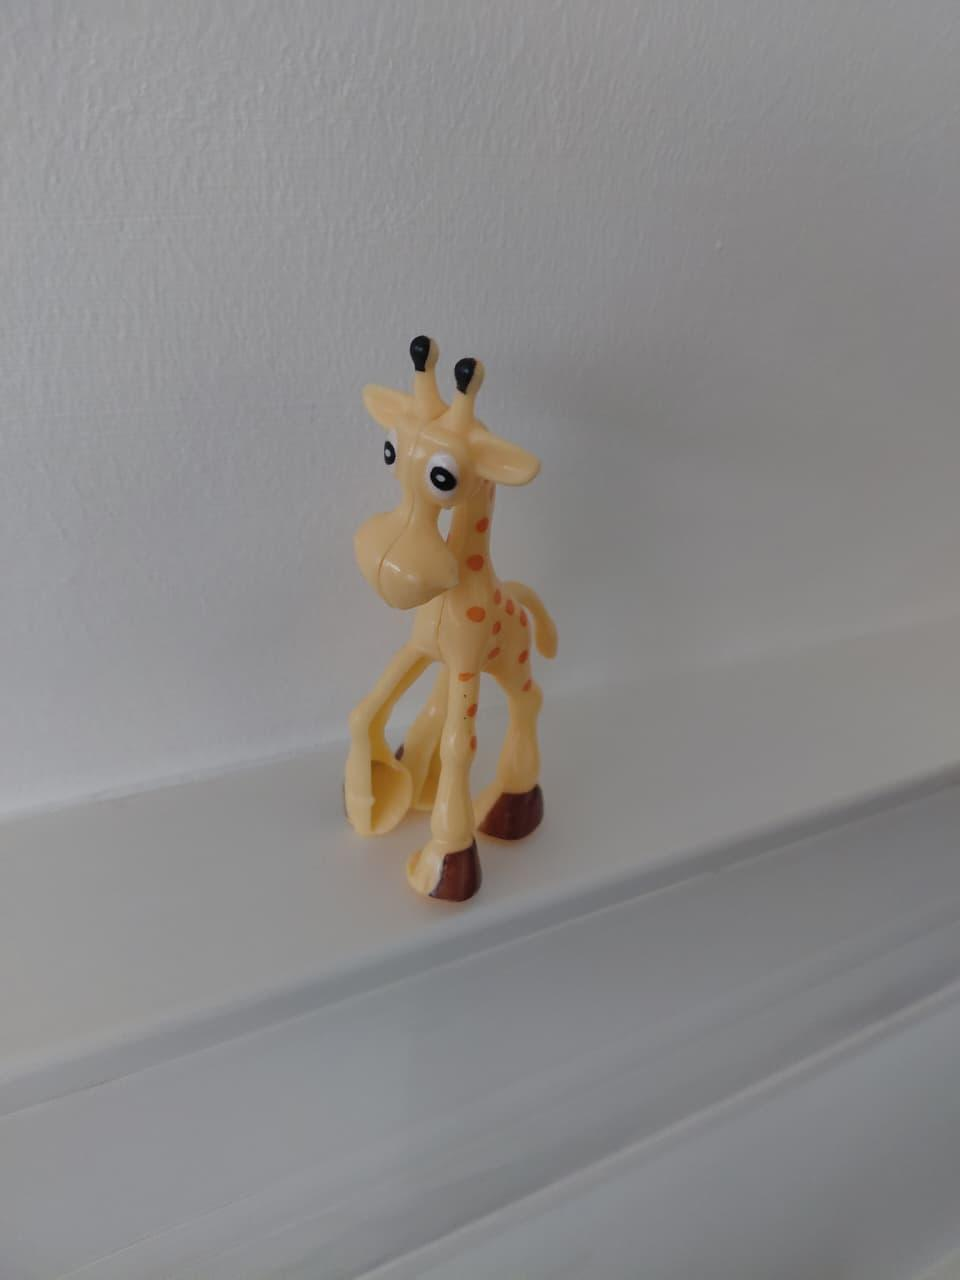giraffe: (303, 305, 648, 919)
